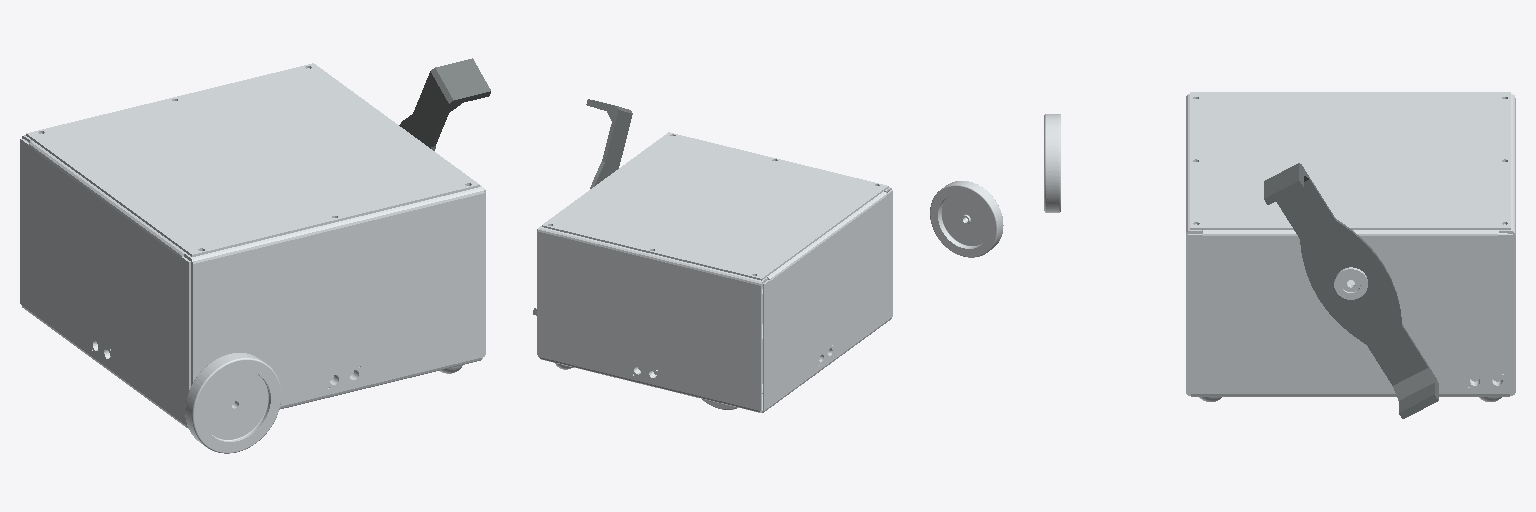
robot.urdf — r2_2020:
<?xml version="1.0" encoding="utf-8"?>
<!-- This URDF was automatically created by SolidWorks to URDF Exporter! Originally created by [author] ([email redacted]) 
     Commit Version: 1.6.0-1-g15f4949  Build Version: 1.6.7594.29634
     For more information, please see http://wiki.ros.org/sw_urdf_exporter -->
<robot
  name="r2_2020">
  <link
    name="base_link">
    <inertial>
      <origin
        xyz="0.024437 0.00014855 0.11851"
        rpy="0 0 0" />
      <mass
        value="9.9293" />
      <inertia
        ixx="0.13788"
        ixy="0.00010399"
        ixz="0.00023717"
        iyy="0.13896"
        iyz="-3.5534E-05"
        izz="0.22195" />
    </inertial>
    <visual>
      <origin
        xyz="0 0 0"
        rpy="0 0 0" />
      <geometry>
        <mesh
          filename="package://r2_2020/meshes/base_link.STL" />
      </geometry>
      <material
        name="">
        <color
          rgba="0.89804 0.91765 0.92941 1" />
      </material>
    </visual>
    <collision>
      <origin
        xyz="0 0 0"
        rpy="0 0 0" />
      <geometry>
        <mesh
          filename="package://r2_2020/meshes/base_link.STL" />
      </geometry>
    </collision>
  </link>
  <link
    name="weapon_link">
    <inertial>
      <origin
        xyz="0.008044 -2.7322E-17 2.7756E-17"
        rpy="0 0 0" />
      <mass
        value="1.4464" />
      <inertia
        ixx="0.02088"
        ixy="2.4746E-09"
        ixz="6.8547E-10"
        iyy="0.015793"
        iyz="0.0085734"
        izz="0.0056937" />
    </inertial>
    <visual>
      <origin
        xyz="0 0 0"
        rpy="0 0 0" />
      <geometry>
        <mesh
          filename="package://r2_2020/meshes/weapon_link.STL" />
      </geometry>
      <material
        name="">
        <color
          rgba="0.52941 0.54902 0.54902 1" />
      </material>
    </visual>
    <collision>
      <origin
        xyz="0 0 0"
        rpy="0 0 0" />
      <geometry>
        <mesh
          filename="package://r2_2020/meshes/weapon_link.STL" />
      </geometry>
    </collision>
  </link>
  <joint
    name="weapon_joint"
    type="continuous">
    <origin
      xyz="0.2077 0.00068787 0.179"
      rpy="0 0 0" />
    <parent
      link="base_link" />
    <child
      link="weapon_link" />
    <axis
      xyz="1 0 0" />
  </joint>
  <link
    name="left_wheel_link">
    <inertial>
      <origin
        xyz="-1.3878E-17 0.00084422 0"
        rpy="0 0 0" />
      <mass
        value="0.25123" />
      <inertia
        ixx="0.00026911"
        ixy="3.2973E-20"
        ixz="3.3667E-20"
        iyy="0.00052643"
        iyz="2.8273E-19"
        izz="0.00026911" />
    </inertial>
    <visual>
      <origin
        xyz="0 0 0"
        rpy="0 0 0" />
      <geometry>
        <mesh
          filename="package://r2_2020/meshes/left_wheel_link.STL" />
      </geometry>
      <material
        name="">
        <color
          rgba="0.89804 0.91765 0.92941 1" />
      </material>
    </visual>
    <collision>
      <origin
        xyz="0 0 0"
        rpy="0 0 0" />
      <geometry>
        <mesh
          filename="package://r2_2020/meshes/left_wheel_link.STL" />
      </geometry>
    </collision>
  </link>
  <joint
    name="left_wheel_joint"
    type="continuous">
    <origin
      xyz="-0.11755 0.1805 0.0655"
      rpy="0 0 0" />
    <parent
      link="base_link" />
    <child
      link="left_wheel_link" />
    <axis
      xyz="0 -1 0" />
  </joint>
  <link
    name="right_wheel_link">
    <inertial>
      <origin
        xyz="0 -0.00084422 -6.9389E-18"
        rpy="0 0 0" />
      <mass
        value="0.25123" />
      <inertia
        ixx="0.00026911"
        ixy="-5.0027E-19"
        ixz="3.863E-20"
        iyy="0.00052643"
        iyz="-9.5453E-19"
        izz="0.00026911" />
    </inertial>
    <visual>
      <origin
        xyz="0 0 0"
        rpy="0 0 0" />
      <geometry>
        <mesh
          filename="package://r2_2020/meshes/right_wheel_link.STL" />
      </geometry>
      <material
        name="">
        <color
          rgba="0.89804 0.91765 0.92941 1" />
      </material>
    </visual>
    <collision>
      <origin
        xyz="0 0 0"
        rpy="0 0 0" />
      <geometry>
        <mesh
          filename="package://r2_2020/meshes/right_wheel_link.STL" />
      </geometry>
    </collision>
  </link>
  <joint
    name="right_wheel_joint"
    type="continuous">
    <origin
      xyz="-0.11755 -0.1805 0.0655"
      rpy="0 0 0" />
    <parent
      link="base_link" />
    <child
      link="right_wheel_link" />
    <axis
      xyz="0 -1 0" />
  </joint>
</robot>

--- What the picture shows (computed from the rendered views, not written in the file) ---
Views: 3 orthographic renders of the robot side by side, from view 1: azimuth 30°, elevation 25°; view 2: azimuth 150°, elevation 25°; view 3: azimuth 270°, elevation 25°.
Model r2_2020 with 4 links and 3 joints (3 continuous), rooted at base_link, posed every joint at zero.
Links seen in each view (by area): view 1: base_link, right_wheel_link, weapon_link; view 2: base_link, right_wheel_link, weapon_link; view 3: base_link, weapon_link, right_wheel_link.
Boxes of the visible links, x1,y1,x2,y2 form: base_link: (20, 63, 485, 428); right_wheel_link: (185, 353, 280, 453); weapon_link: (399, 58, 490, 150); base_link: (537, 132, 892, 412); right_wheel_link: (930, 181, 1003, 257); weapon_link: (533, 99, 632, 315); base_link: (1186, 92, 1515, 401); weapon_link: (1264, 163, 1438, 418); right_wheel_link: (1044, 114, 1060, 212).
Size in the robot's own frame: 0.5558 by 0.571 by 0.3389 metres.
4 mesh visuals loaded from 4 distinct referenced files (4 binary STL).
